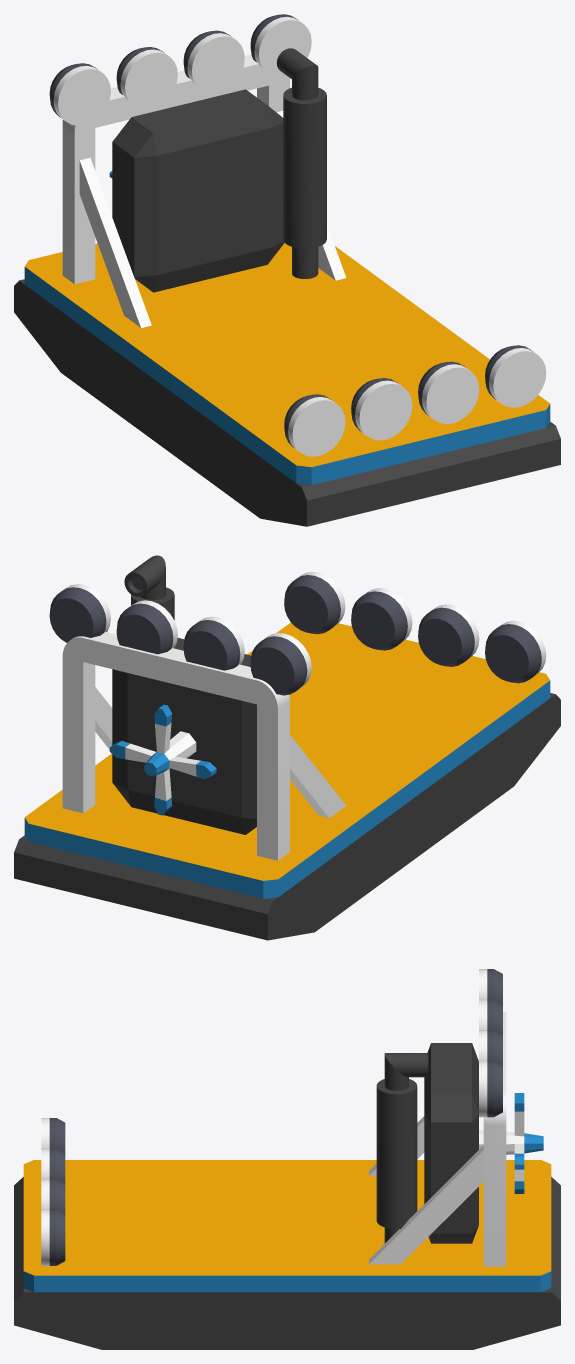
The model's file is Airboat_01.fbx.
3 views of the same model, one above another, from view 1: azimuth 30°, elevation 25°; view 2: azimuth 150°, elevation 25°; view 3: azimuth 270°, elevation 25° (orthographic). The views are drawn at different scales.
Visible parts, largest first — view 1: trunk_bedFlat_0, trunk_bedFlat_1, block_rounded_5, detail_rollbar_2, detail_roofLights%_6, detail_roofLights%_11, detail_exhaustVertical_10; view 2: trunk_bedFlat_1, trunk_bedFlat_0, detail_rollbar_2, block_rounded_5, detail_roofLights%_6, detail_roofLights%_11, detail_propeller_3, detail_exhaustVertical_10; view 3: trunk_bedFlat_0, trunk_bedFlat_1, block_rounded_5, detail_rollbar_2, detail_exhaustVertical_10, detail_roofLights%_6, detail_roofLights%_11, detail_propeller_3.
Boxes of the visible parts, box(x1,y1,x2,y2) form: trunk_bedFlat_0: box(160, 304, 560, 526); trunk_bedFlat_1: box(14, 243, 413, 445); block_rounded_5: box(112, 89, 284, 292); detail_rollbar_2: box(62, 54, 346, 327); detail_roofLights%_6: box(284, 345, 546, 456); detail_roofLights%_11: box(49, 14, 311, 125); detail_exhaustVertical_10: box(276, 48, 326, 278); trunk_bedFlat_1: box(14, 753, 414, 940); trunk_bedFlat_0: box(247, 622, 560, 859); detail_rollbar_2: box(62, 632, 346, 860); block_rounded_5: box(112, 638, 256, 834); detail_roofLights%_6: box(284, 571, 546, 683); detail_roofLights%_11: box(49, 584, 311, 695); detail_propeller_3: box(109, 704, 216, 815); detail_exhaustVertical_10: box(124, 555, 174, 620); trunk_bedFlat_0: box(14, 1160, 287, 1349); trunk_bedFlat_1: box(287, 1160, 560, 1349); block_rounded_5: box(424, 1043, 478, 1243); detail_rollbar_2: box(369, 1012, 506, 1266); detail_exhaustVertical_10: box(376, 1053, 428, 1243); detail_roofLights%_6: box(41, 1118, 65, 1265); detail_roofLights%_11: box(479, 969, 502, 1117); detail_propeller_3: box(479, 1093, 543, 1193).
Size of the model in its own units: 10 by 11.08 by 20.
